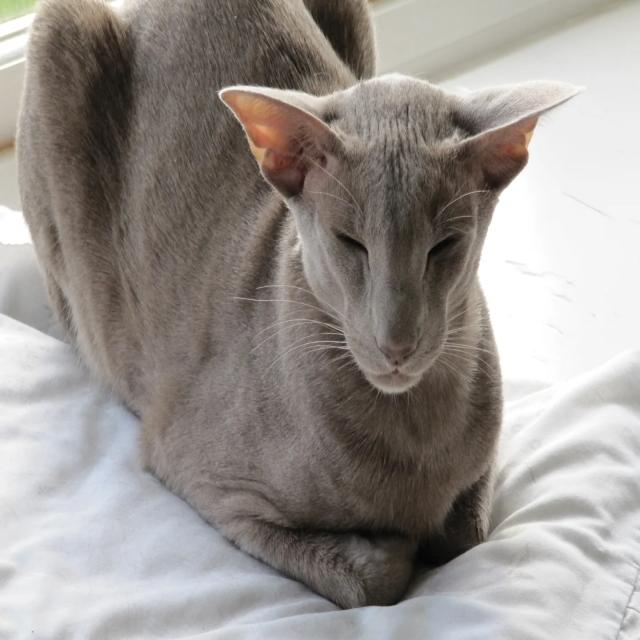Oriental: (14, 0, 587, 609)
